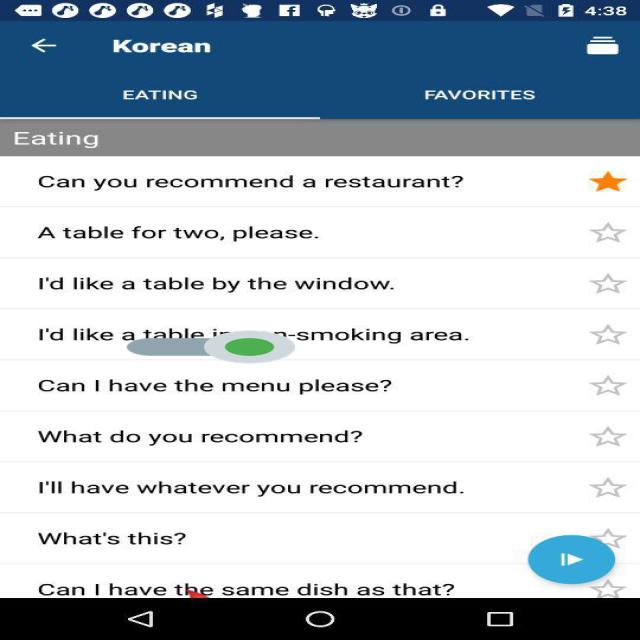social proof: (127, 317, 295, 377)
